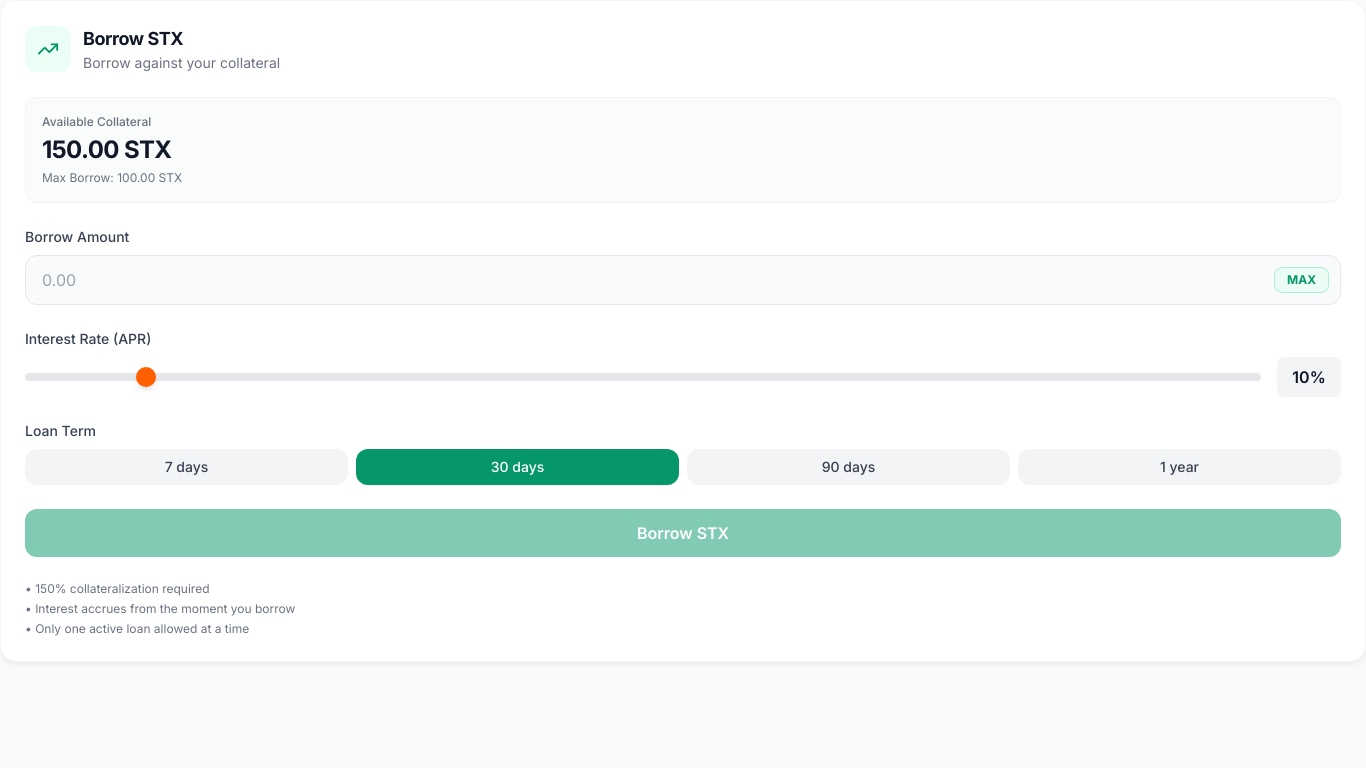
Scenario: BorrowCard Component › Loan Summary › shows loan summary when amount is entered
The width and height of the screenshot is (1366, 768).
Type "50" into the number field with placeholder "0.00" at (683, 280), box [25,255,1341,305]
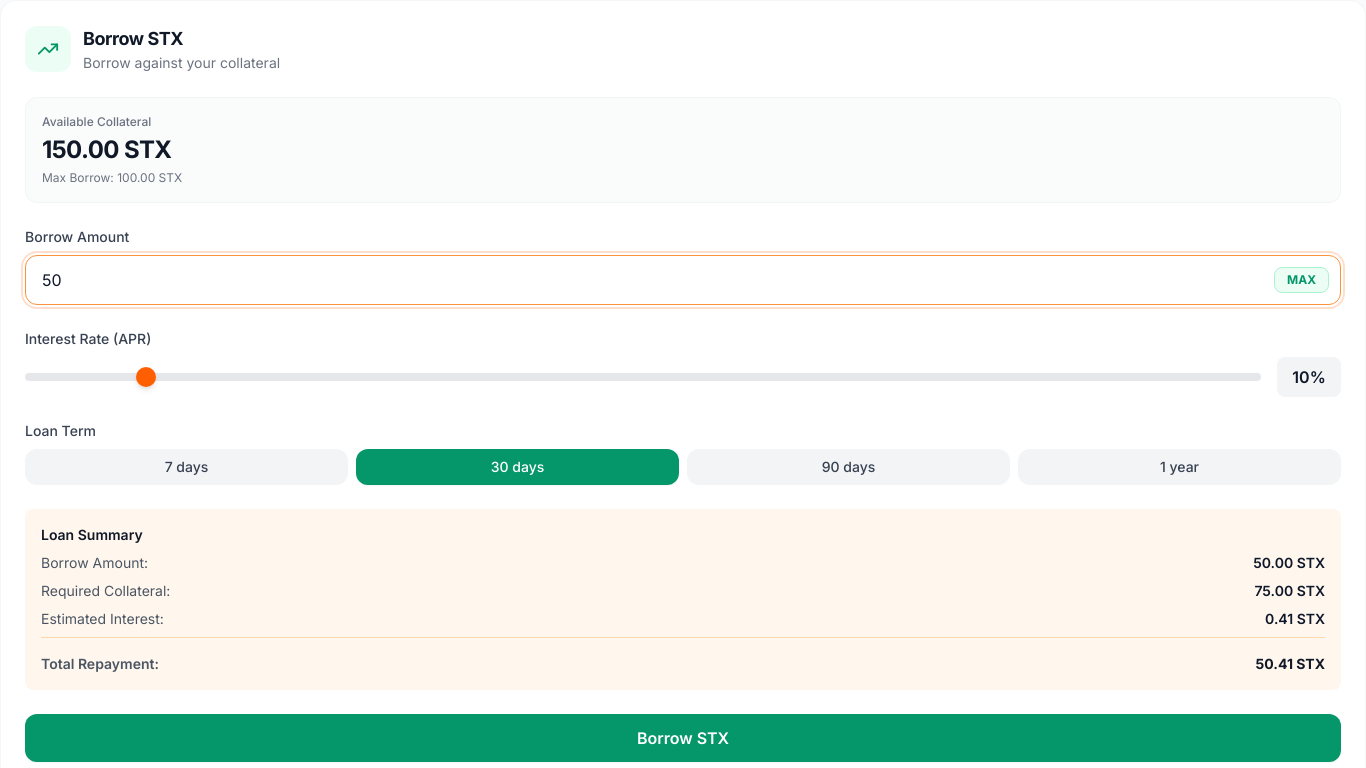
Result: the heading "Loan Summary" is shown at [41,526,143,543]
